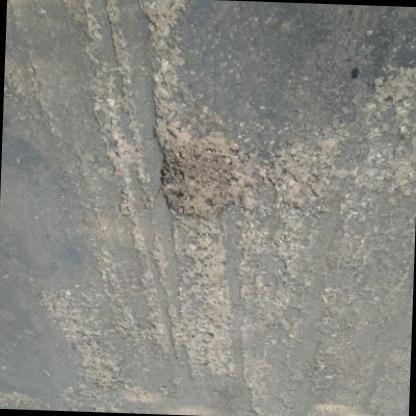pothole: (150, 113, 331, 221), (163, 237, 244, 383), (42, 286, 134, 398), (370, 48, 416, 197)
